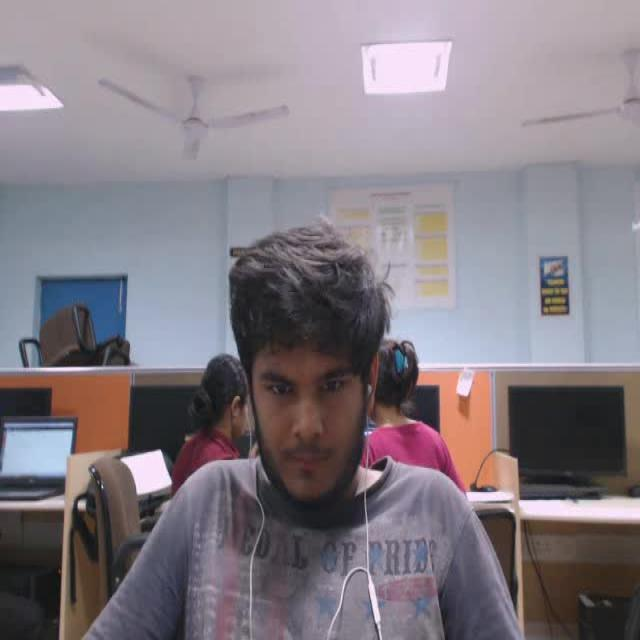Engaged: (201, 209, 427, 553)
